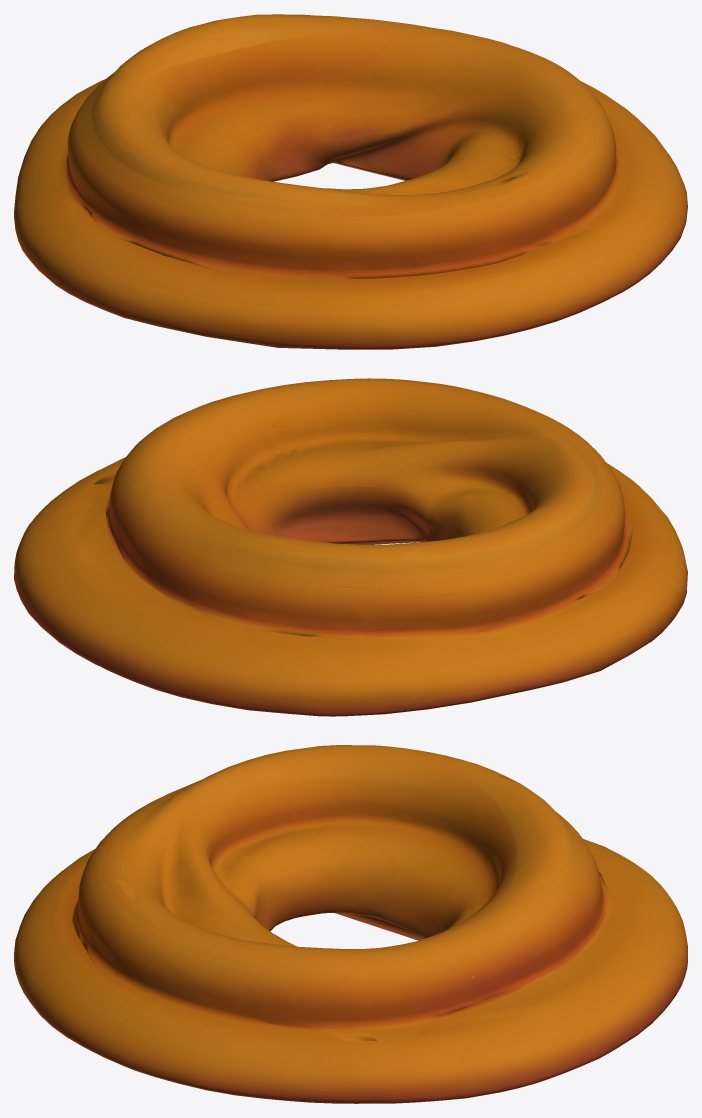
The model's file is sauce.glb.
3 renders of one model, top to bottom at view 1: azimuth 30°, elevation 25°; view 2: azimuth 150°, elevation 25°; view 3: azimuth 270°, elevation 25°, orthographic. The views are drawn at different scales.
Visible parts, largest first — view 1: material; view 2: material; view 3: material.
Part boxes in pixels (x1,y1,x2,y2): material: (14, 14, 687, 349); material: (14, 378, 687, 716); material: (14, 745, 687, 1103).
Bounding box in the file's own units: 1.9 × 0.3746 × 1.9.
1 material, 1 textured.
